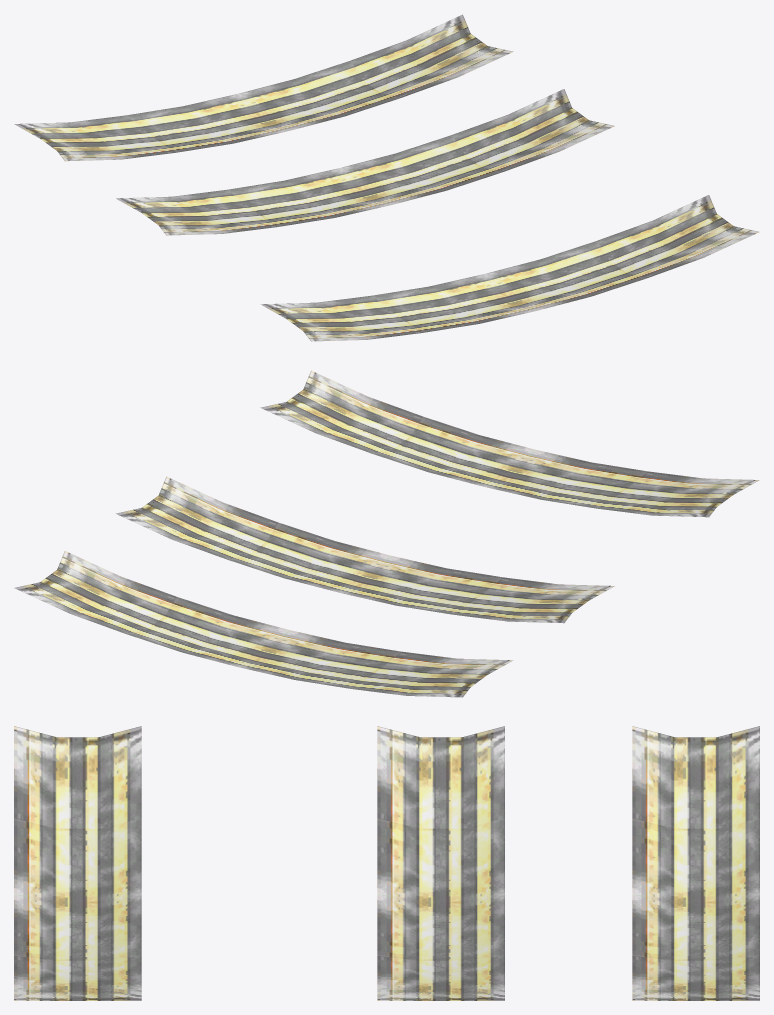
File: pers_civic_props_a.dae
The picture shows the model from 3 angles, top to bottom: view 1: azimuth 30°, elevation 25°; view 2: azimuth 150°, elevation 25°; view 3: azimuth 270°, elevation 25°; orthographic projection. The views are drawn at different scales.
Parts seen in each view (by area): view 1: fabric; view 2: fabric; view 3: fabric.
Boxes of the visible parts, left/top/right/bottom form: fabric: left=14, top=14, right=759, bottom=341; fabric: left=14, top=370, right=759, bottom=697; fabric: left=14, top=726, right=759, bottom=1000.
Bounding box in the file's own units: 11.96 × 13.71 × 0.7894.
